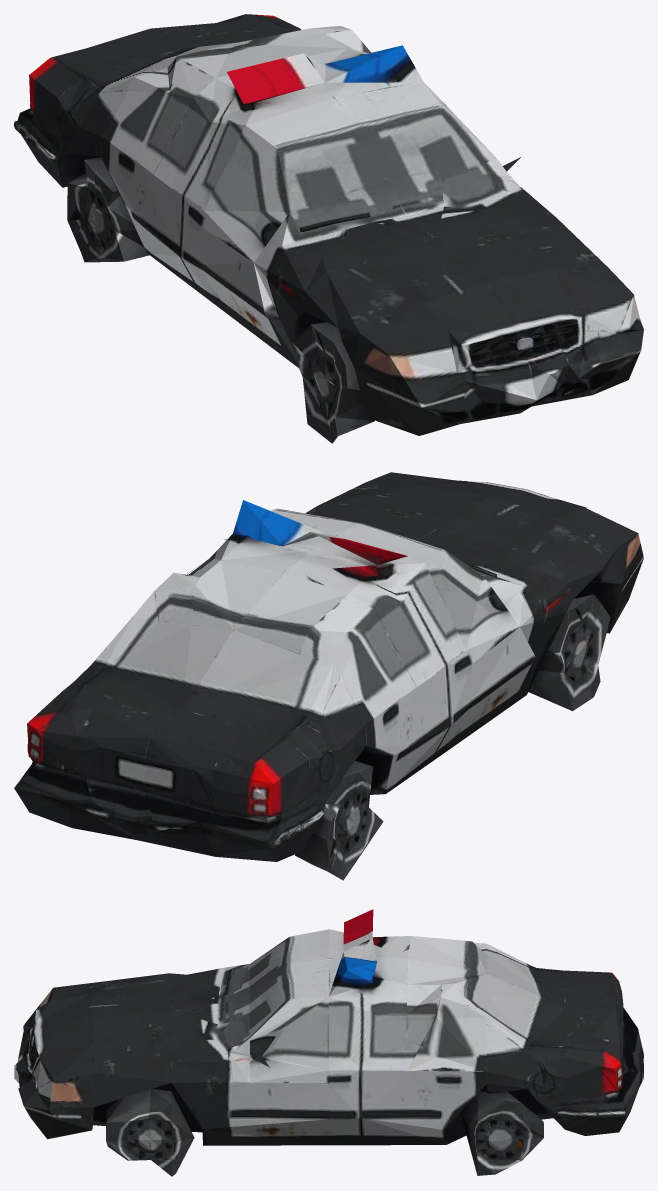
Rendered from police_car.glb.
The picture shows the model from 3 angles, top to bottom: view 1: azimuth 30°, elevation 25°; view 2: azimuth 150°, elevation 25°; view 3: azimuth 270°, elevation 25°; orthographic projection. The views are drawn at different scales.
Visible parts, largest first — view 1: geometry_0; view 2: geometry_0; view 3: geometry_0.
Boxes of the visible parts, bbox=[...] form: geometry_0: bbox=[14, 14, 643, 443]; geometry_0: bbox=[14, 472, 643, 880]; geometry_0: bbox=[14, 909, 643, 1176].
Size of the model in its own units: 0.4049 by 0.3357 by 0.9993.
Materials: 1 (1 with a texture image).
